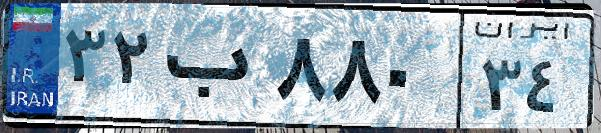0: (385, 28, 445, 110)
2: (110, 28, 158, 98)
3: (57, 26, 110, 100), (475, 38, 525, 113)
4: (525, 38, 570, 115)
8: (270, 28, 330, 110), (330, 28, 385, 110)
ب: (158, 20, 270, 120)
